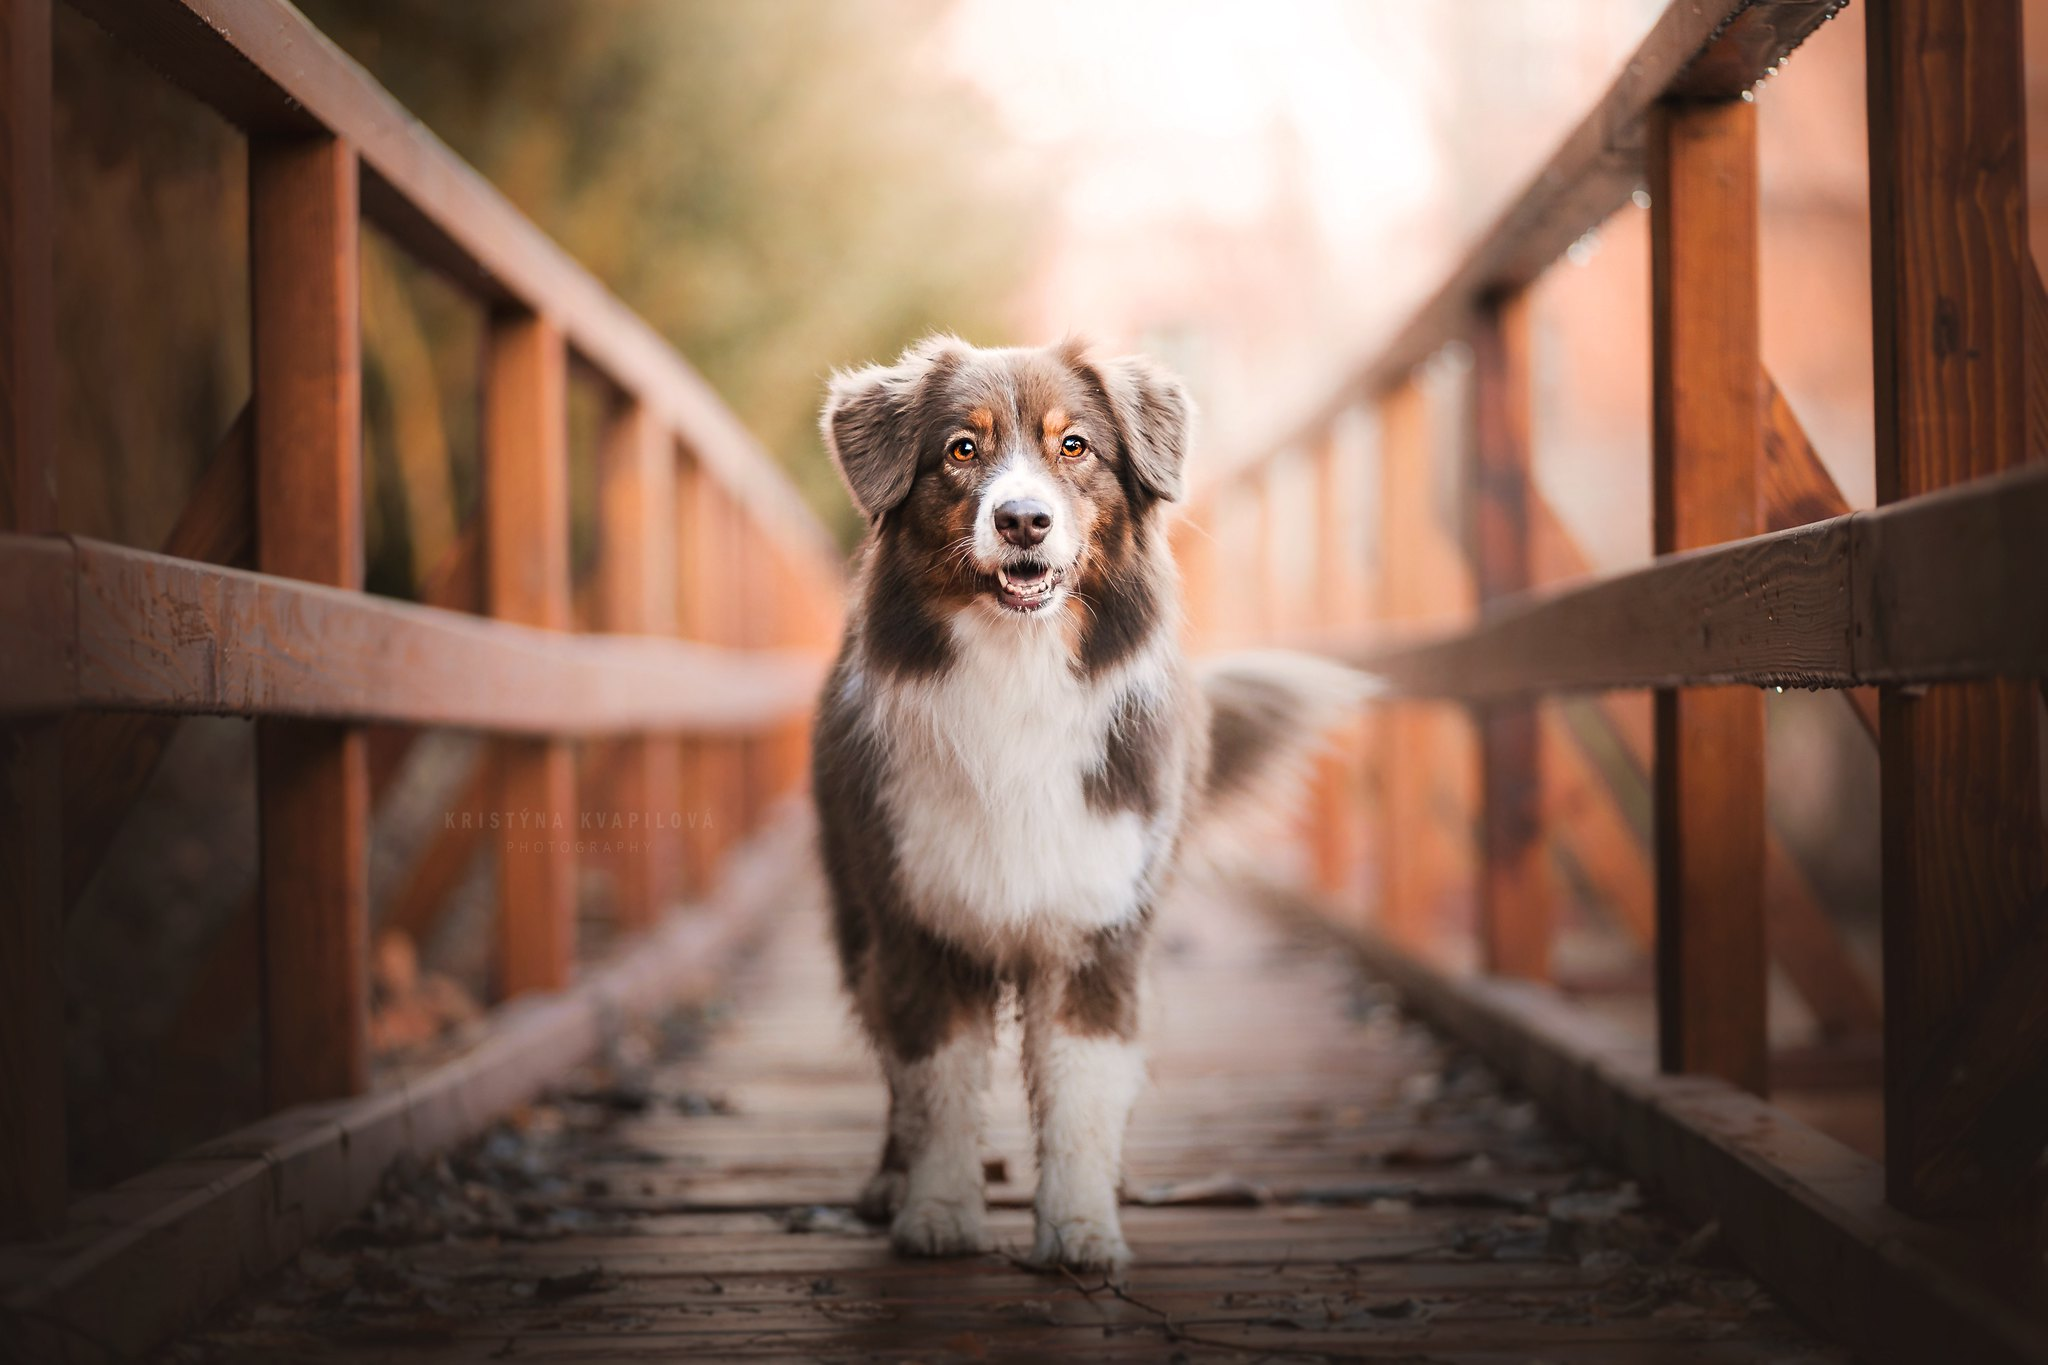dog: (818, 326, 1233, 1255)
